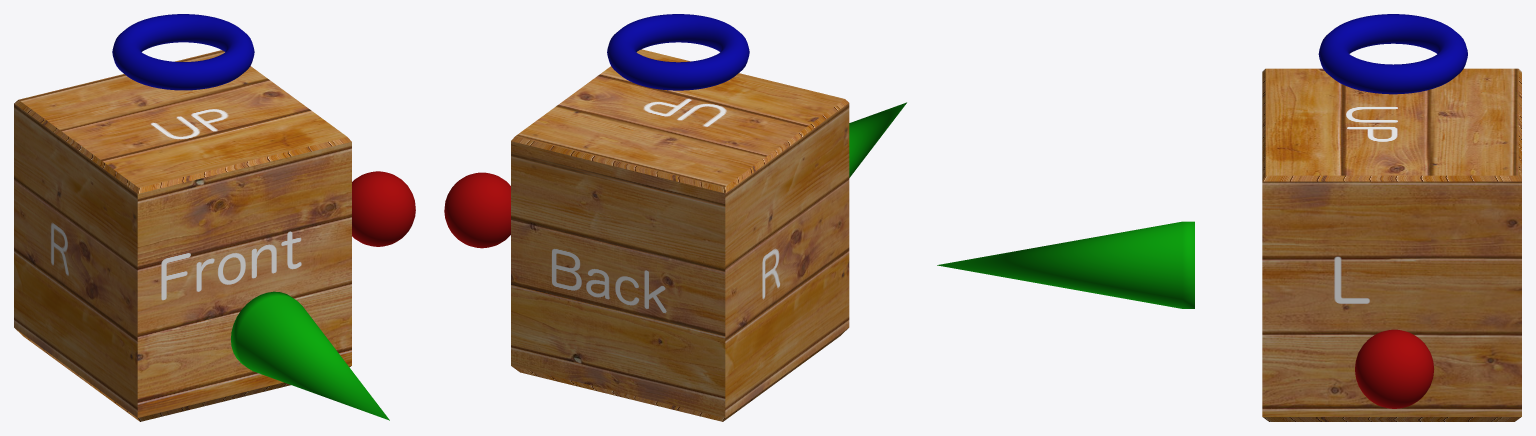
Rendered from MixShapes.obj.
The picture shows the model from 3 angles, left to right: view 1: azimuth 30°, elevation 25°; view 2: azimuth 150°, elevation 25°; view 3: azimuth 270°, elevation 25°; orthographic projection. The views are drawn at different scales.
Parts seen in each view (by area): view 1: Cube, Cone, Torus, Sphere; view 2: Cube, Torus, Sphere, Cone; view 3: Cube, Cone, Torus, Sphere.
Part boxes in pixels (x1,y1,x2,y2): Cube: (14, 50, 351, 421); Cone: (231, 291, 389, 420); Torus: (112, 14, 254, 90); Sphere: (352, 171, 415, 246); Cube: (511, 49, 849, 421); Torus: (607, 14, 749, 90); Sphere: (444, 172, 510, 248); Cone: (849, 102, 906, 177); Cube: (1262, 68, 1521, 421); Cone: (937, 221, 1194, 308); Torus: (1318, 14, 1467, 94); Sphere: (1355, 329, 1434, 408).
Size of the model in its own units: 3.14 by 2.81 by 4.51.
Materials: 4 (1 with a texture image).
